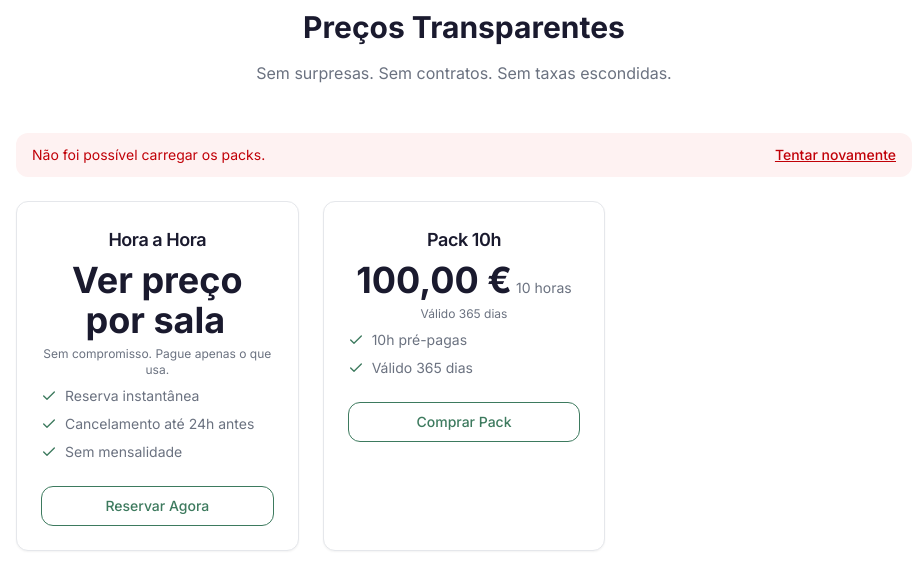
Test: Pricing treats the rooms request as part of the load (review) › shows the error state with a retry that refetches rooms when the rate fails to load
Click the button "Tentar novamente": (835, 155) x1=775 y1=145 x2=896 y2=165
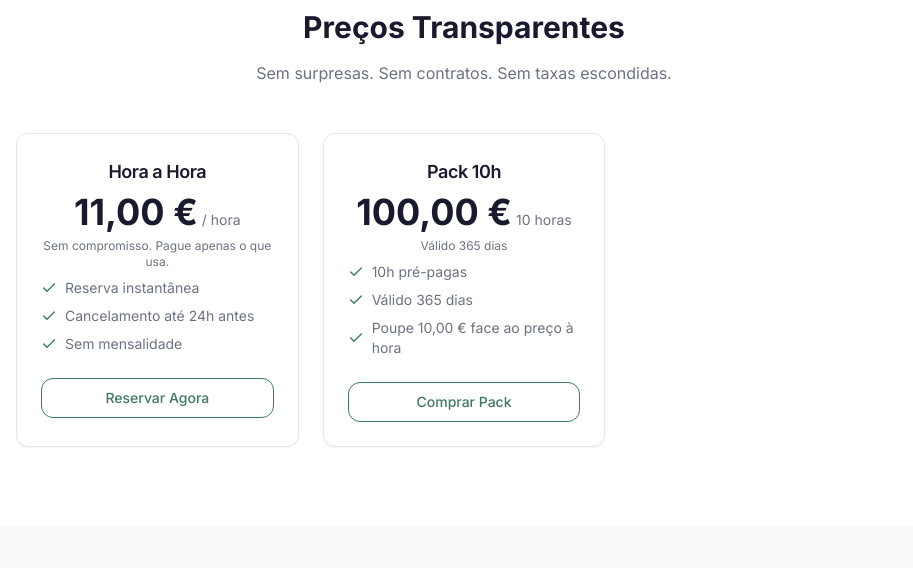
Expected: the message "Não foi possível carregar os packs. Tentar novamente" is gone
Expected: the element "Hora a Hora" shows "11,00", x1=74 y1=190 x2=198 y2=234
